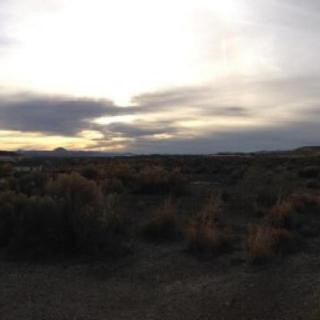Cirrostratus: (0, 0, 320, 146)
